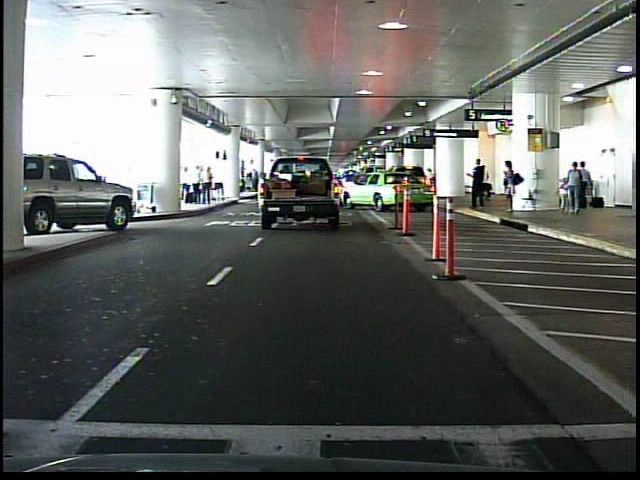person: (502, 155, 523, 216), (468, 154, 488, 212), (483, 159, 496, 211)
